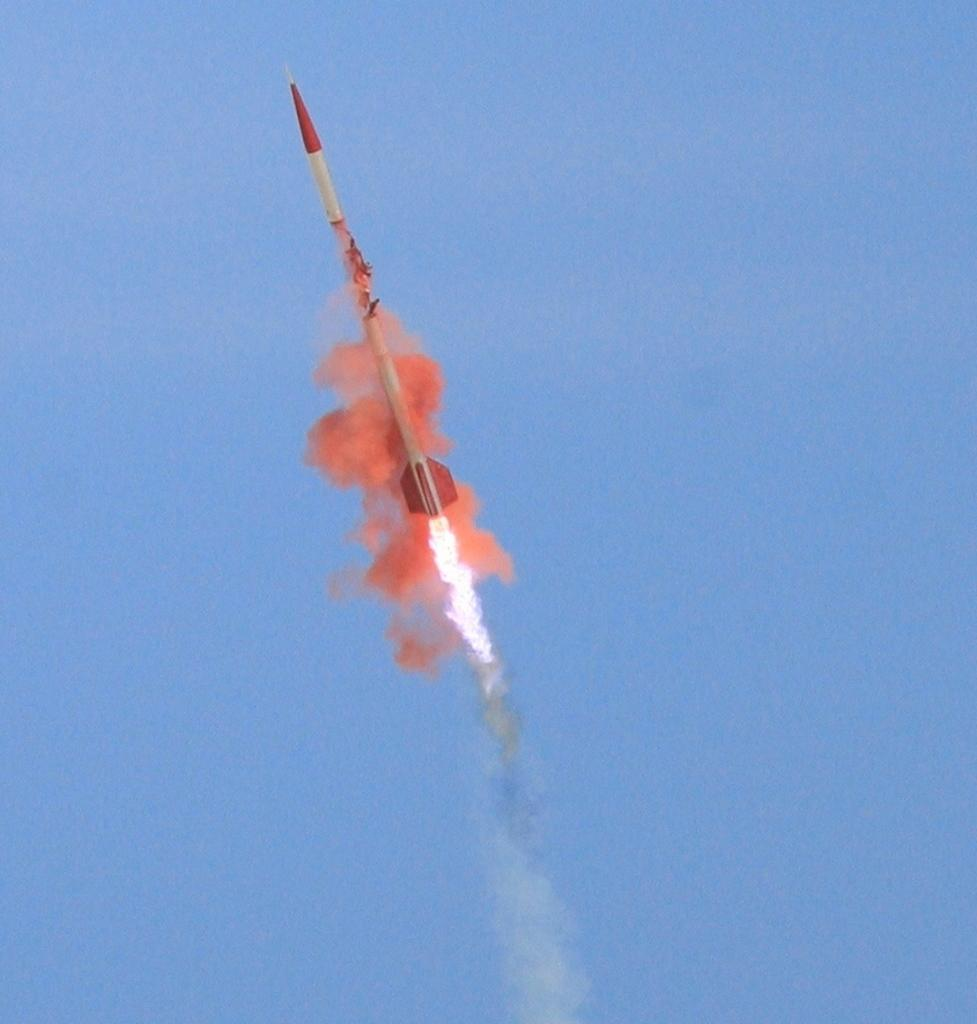Missile: (279, 60, 458, 519)
